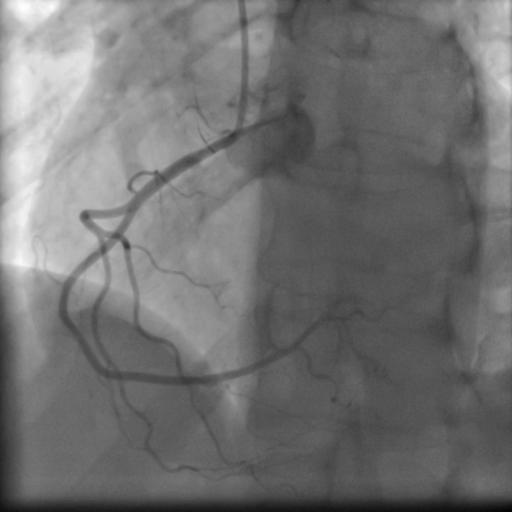Stenosis: (70, 317, 95, 363)
